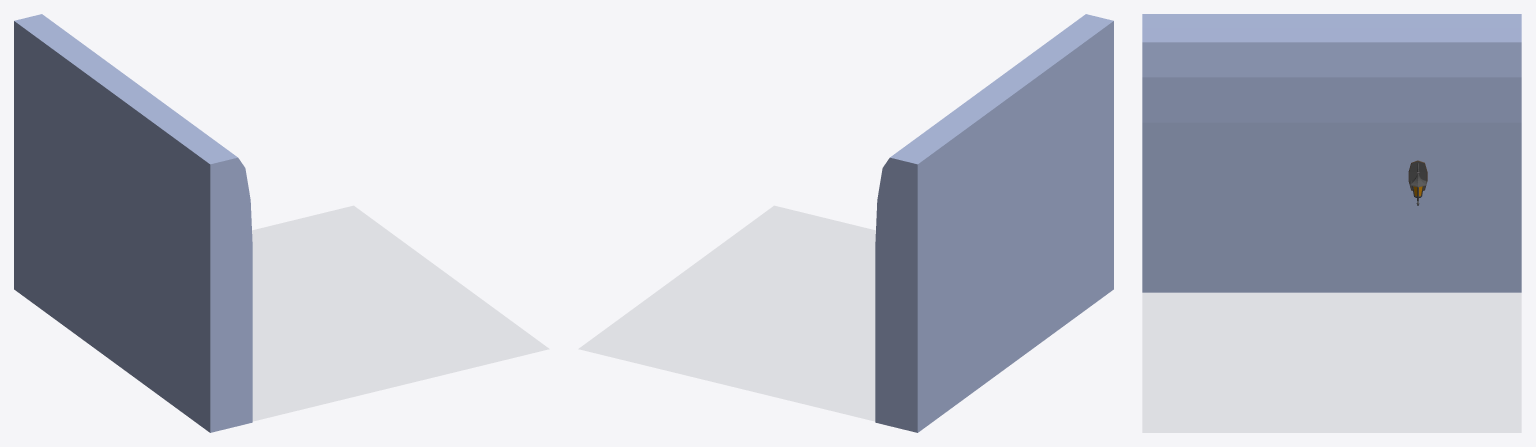
Rendered from labirintus_darabok_test2.fbx.
3 renders of one model, left to right at view 1: azimuth 30°, elevation 25°; view 2: azimuth 150°, elevation 25°; view 3: azimuth 270°, elevation 25°, orthographic. The views are drawn at different scales.
Parts seen in each view (by area): view 1: Cube.001, Plane; view 2: Cube.001, Plane; view 3: Cube.001, Plane, FanvcLantern.
Part boxes in pixels (x1,y1,x2,y2): Cube.001: (14,14,252,432); Plane: (252,205,549,421); Cube.001: (875,14,1113,432); Plane: (578,205,875,421); Cube.001: (1142,14,1521,292); Plane: (1142,292,1521,432); FanvcLantern: (1408,160,1427,205).
Bounding box in the file's own units: 800 × 604 × 800.
